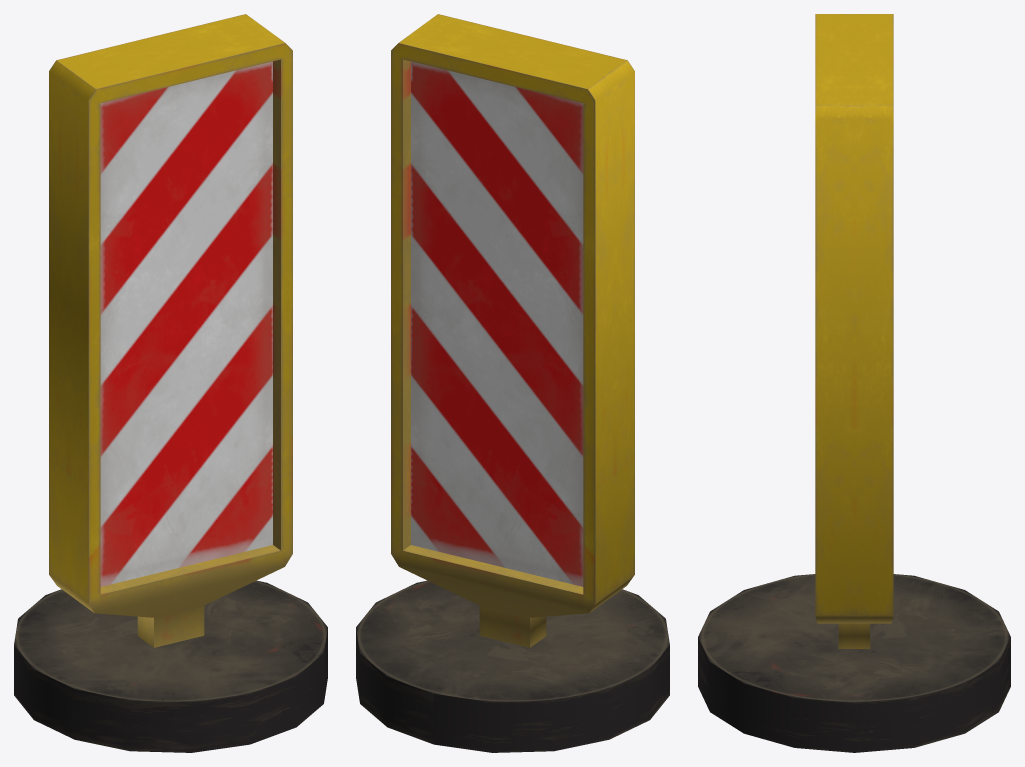
File: Barierka_3_LP.FBX
3 views of the same model, side by side, from view 1: azimuth 30°, elevation 25°; view 2: azimuth 150°, elevation 25°; view 3: azimuth 270°, elevation 25° (orthographic).
Parts seen in each view (by area): view 1: Barierka_3_LP; view 2: Barierka_3_LP; view 3: Barierka_3_LP.
Boxes of the visible parts, x1=… form: Barierka_3_LP: x1=14, y1=14, x2=327, y2=752; Barierka_3_LP: x1=356, y1=14, x2=669, y2=752; Barierka_3_LP: x1=698, y1=14, x2=1010, y2=752.
Bounding box in the file's own units: 32.09 × 32.09 × 70.99.
